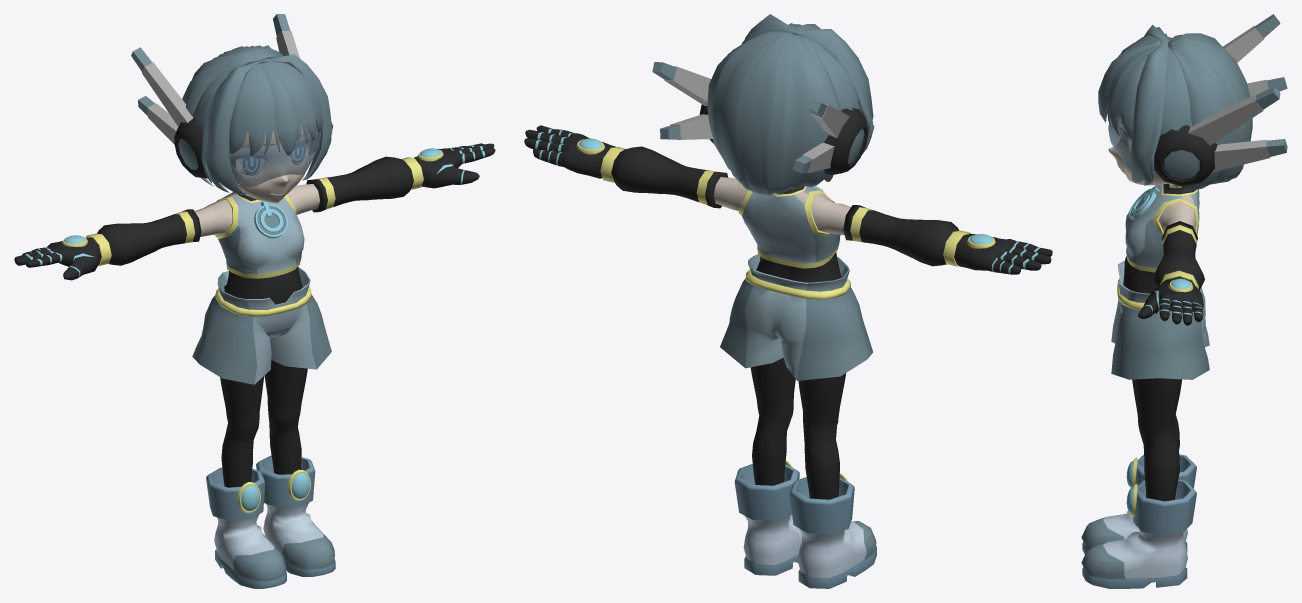
Rendered from BlueAndroid2.fbx.
3 renders of one model, left to right at view 1: azimuth 30°, elevation 25°; view 2: azimuth 150°, elevation 25°; view 3: azimuth 270°, elevation 25°, orthographic. The views are drawn at different scales.
Visible parts, largest first — view 1: pasted__pasted__pasted__pasted__pasted__pasted__pasted__te12, pasted__kutu (×2), pasted__zubon, pasted__arm (×2), pasted__pasted__kami_base54, pasted__pasted__kami_base6, pasted__huku1, pasted__te (×2), pasted__pasted__pasted__pasted__pasted__pasted__pasted__te11, Google, pasted__pasted__kami_base60, pasted__pCube10 (+6 smaller); view 2: pasted__pasted__kami_base60, pasted__pasted__pasted__pasted__pasted__pasted__pasted__te12, pasted__kutu (×2), pasted__zubon, pasted__arm (×2), pasted__huku1, pasted__te (×2), pasted__pasted__kami_base6, pasted__pSphere15, pasted__pCube8, pasted__pasted__kami_base12, pasted__pCube9 (+3 smaller); view 3: pasted__kutu (×2), pasted__zubon, pasted__pasted__pasted__pasted__pasted__pasted__pasted__te12, pasted__pasted__kami_base60, pasted__pasted__kami_base6, pasted__pasted__kami_base54, pasted__pSphere12, pasted__huku1, pasted__arm, pasted__pCube8, pasted__te, pasted__pasted__kami_base12 (+7 smaller).
Part boxes in pixels (x1,y1,x2,y2): pasted__pasted__pasted__pasted__pasted__pasted__pasted__te12: [195, 184, 320, 487]; pasted__kutu (×2): [206, 455, 335, 588]; pasted__zubon: [192, 267, 331, 384]; pasted__arm (×2): [86, 156, 423, 265]; pasted__pasted__kami_base54: [229, 61, 323, 157]; pasted__pasted__kami_base6: [201, 54, 333, 194]; pasted__huku1: [215, 192, 304, 278]; pasted__te (×2): [14, 143, 495, 280]; pasted__pasted__pasted__pasted__pasted__pasted__pasted__te11: [230, 125, 309, 203]; Google: [229, 128, 319, 187]; pasted__pasted__kami_base60: [182, 45, 283, 186]; pasted__pCube10: [131, 47, 193, 126]; pasted__pasted__kami_base60: [707, 30, 840, 195]; pasted__pasted__pasted__pasted__pasted__pasted__pasted__te12: [713, 177, 850, 499]; pasted__kutu (×2): [734, 464, 876, 588]; pasted__zubon: [720, 254, 872, 380]; pasted__arm (×2): [600, 146, 970, 266]; pasted__huku1: [738, 186, 840, 268]; pasted__te (×2): [524, 125, 1052, 274]; pasted__pasted__kami_base6: [742, 14, 874, 154]; pasted__pSphere15: [824, 108, 868, 175]; pasted__pCube8: [652, 62, 711, 105]; pasted__pasted__kami_base12: [740, 30, 858, 111]; pasted__pCube9: [660, 114, 713, 139]; pasted__kutu (×2): [1081, 454, 1196, 588]; pasted__zubon: [1111, 260, 1209, 379]; pasted__pasted__pasted__pasted__pasted__pasted__pasted__te12: [1123, 194, 1196, 501]; pasted__pasted__kami_base60: [1168, 33, 1252, 191]; pasted__pasted__kami_base6: [1130, 24, 1168, 185]; pasted__pasted__kami_base54: [1098, 36, 1161, 139]; pasted__pSphere12: [1154, 125, 1217, 186]; pasted__huku1: [1125, 184, 1199, 272]; pasted__arm: [1153, 221, 1204, 289]; pasted__pCube8: [1188, 86, 1280, 145]; pasted__te: [1138, 276, 1203, 325]; pasted__pasted__kami_base12: [1160, 37, 1191, 135].
Bounding box in the file's own units: 132 × 132 × 46.75.
